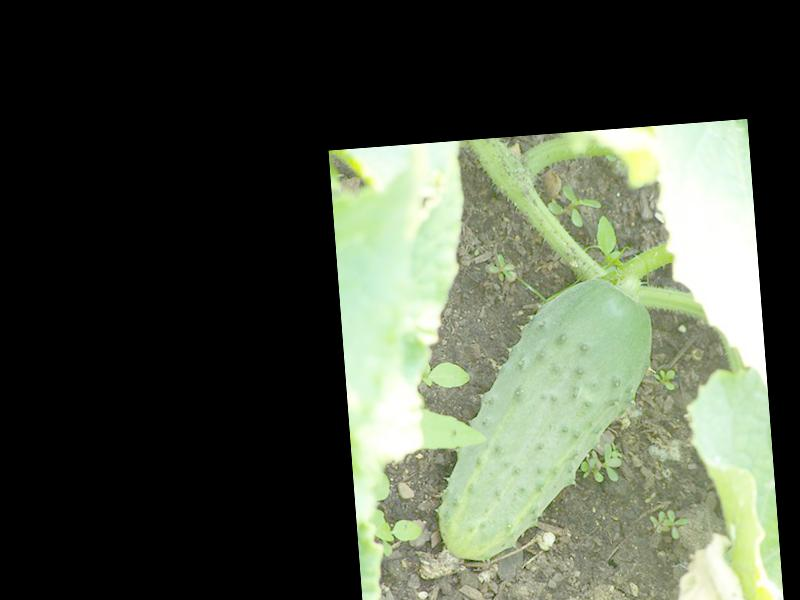Cucumber: (421, 273, 669, 562)
